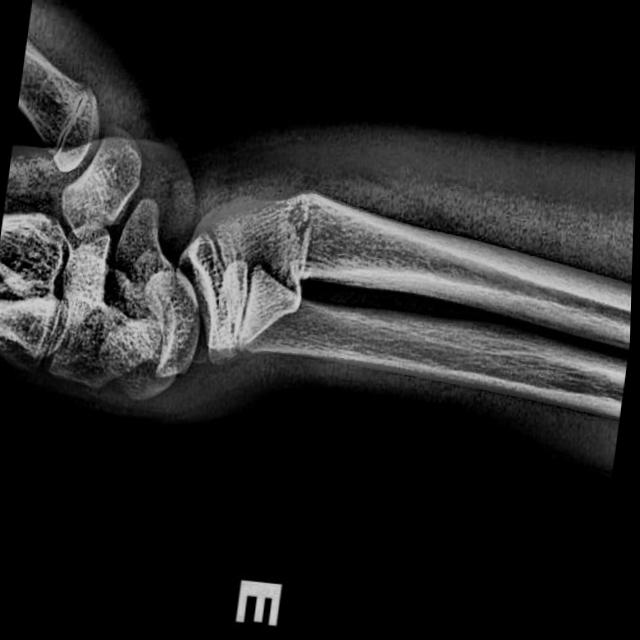fracture: (289, 188, 320, 279)
